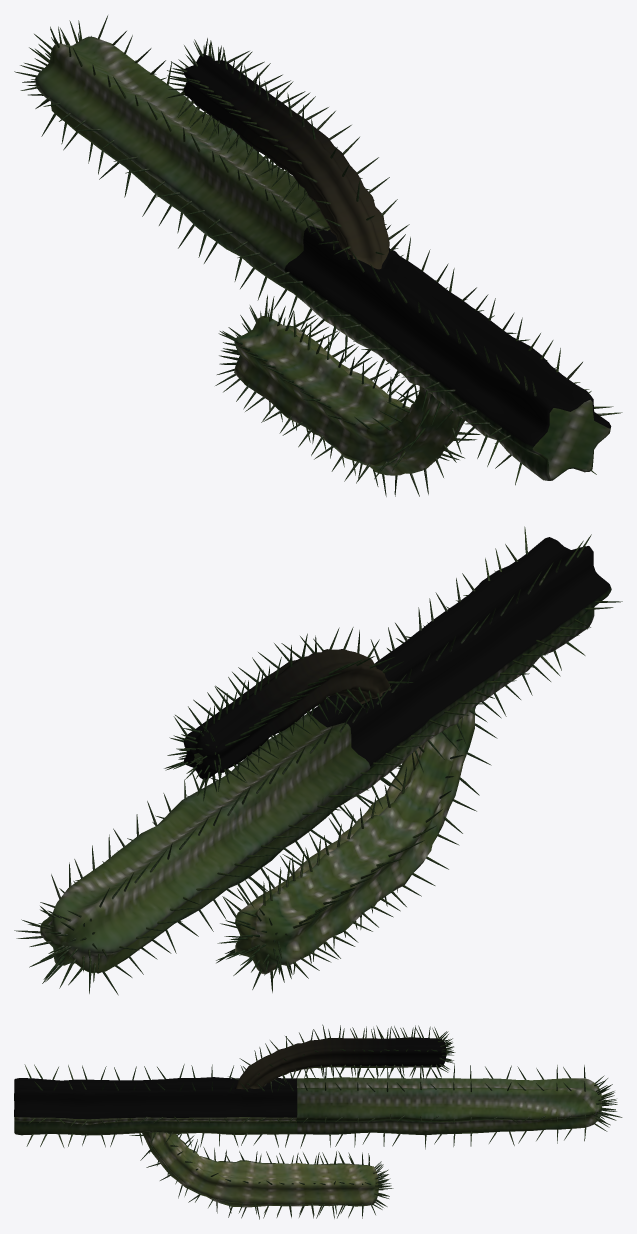
File: Cactus.fbx
3 views of the same model, one above another, from view 1: azimuth 30°, elevation 25°; view 2: azimuth 150°, elevation 25°; view 3: azimuth 270°, elevation 25° (orthographic). The views are drawn at different scales.
Visible parts, largest first — view 1: cactus.1; view 2: cactus.1; view 3: cactus.1.
Boxes of the visible parts, x1,y1,x2,y2 form: cactus.1: (14,15,622,496); cactus.1: (14,526,622,995); cactus.1: (14,1024,622,1219).
Bounding box in the file's own units: 108 × 257 × 724.
